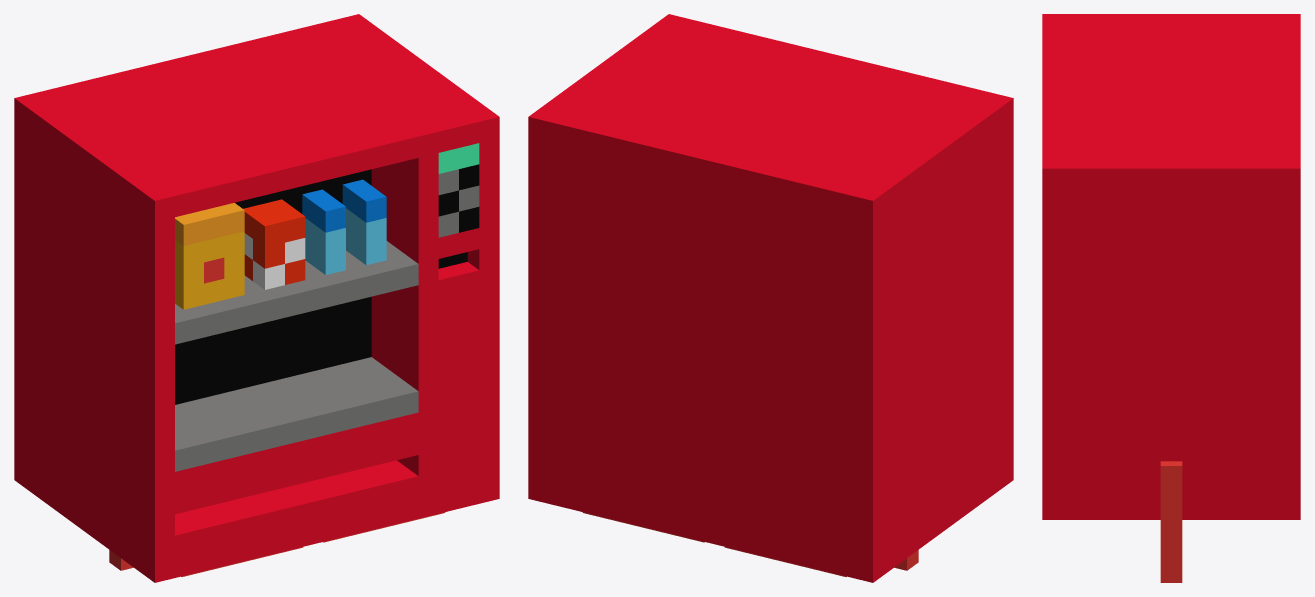
File: vendingmachine.glb
The picture shows the model from 3 angles, left to right: view 1: azimuth 30°, elevation 25°; view 2: azimuth 150°, elevation 25°; view 3: azimuth 270°, elevation 25°; orthographic projection. The views are drawn at different scales.
Parts seen in each view (by area): view 1: base, screen, rack, screen (1), glasses; view 2: base, glasses; view 3: base, glasses.
Part boxes in pixels (x1,y1,x2,y2): base: [14, 14, 499, 582]; screen: [175, 241, 418, 471]; rack: [175, 179, 386, 309]; screen (1): [438, 143, 479, 237]; glasses: [109, 512, 445, 576]; base: [528, 14, 1013, 582]; glasses: [582, 512, 918, 576]; base: [1042, 14, 1300, 519]; glasses: [1160, 461, 1182, 582].
Bounding box in the file's own units: 17.5 × 21 × 12.
15 materials, 15 textured.
